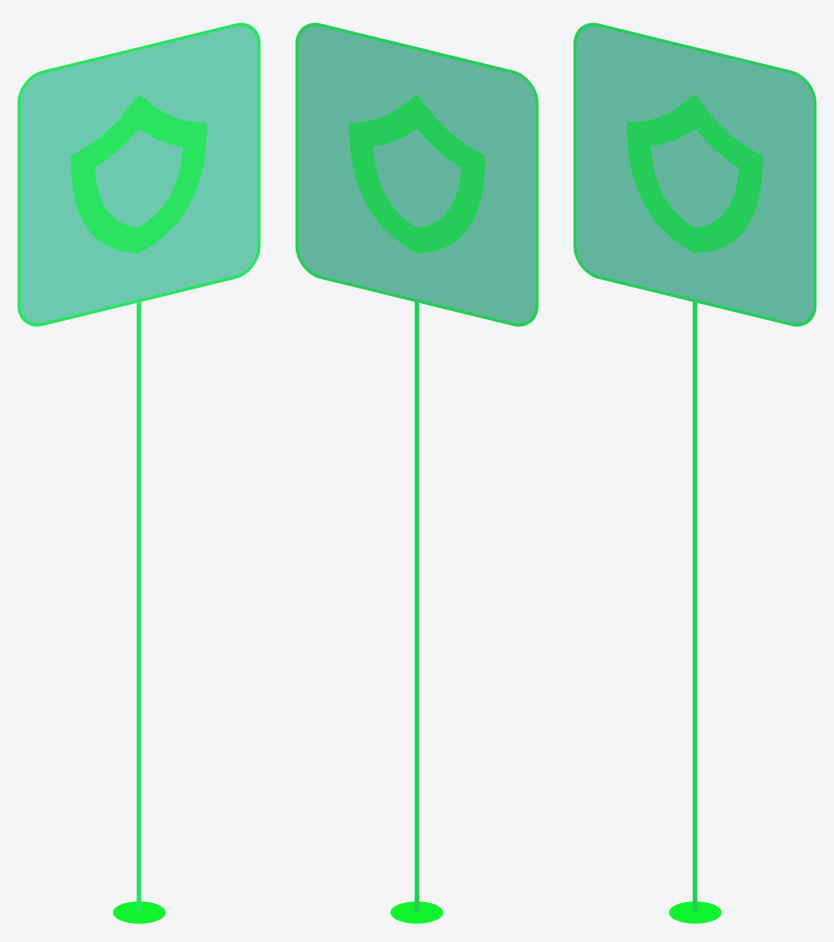
File: SecurityPoint.glb
3 renders of one model, left to right at view 1: azimuth 30°, elevation 25°; view 2: azimuth 150°, elevation 25°; view 3: azimuth 330°, elevation 25°, orthographic.
Parts seen in each view (by area): view 1: 监控_顶牌, 监控_连接线, 监控_点位; view 2: 监控_顶牌, 监控_连接线, 监控_点位; view 3: 监控_顶牌, 监控_连接线, 监控_点位.
Part boxes in pixels (x1,y1,x2,y2): 监控_顶牌: (17, 22, 260, 326); 监控_连接线: (136, 302, 141, 912); 监控_点位: (113, 901, 165, 923); 监控_顶牌: (295, 22, 538, 326); 监控_连接线: (414, 302, 419, 912); 监控_点位: (390, 901, 442, 923); 监控_顶牌: (573, 22, 816, 326); 监控_连接线: (692, 302, 697, 912); 监控_点位: (669, 901, 721, 923).
Size of what is drawn, in the model's own units: 0.43 by 1.44 by 0.08.
Materials: 3 (2 with a texture image).
